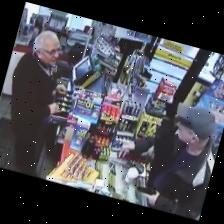person: (121, 107, 215, 218), (10, 31, 65, 177)
